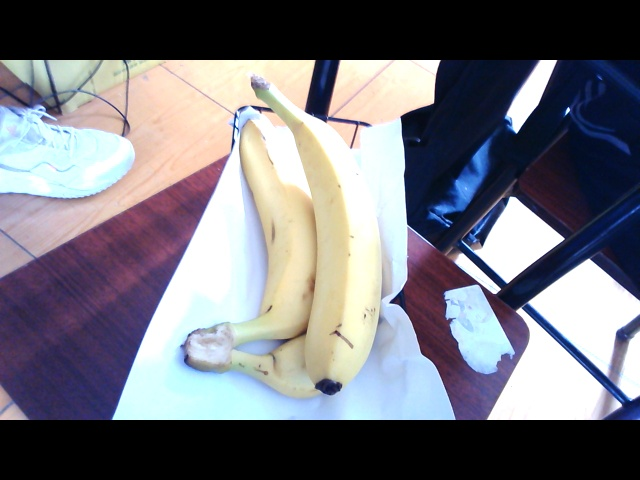banana: (211, 112, 390, 404)
